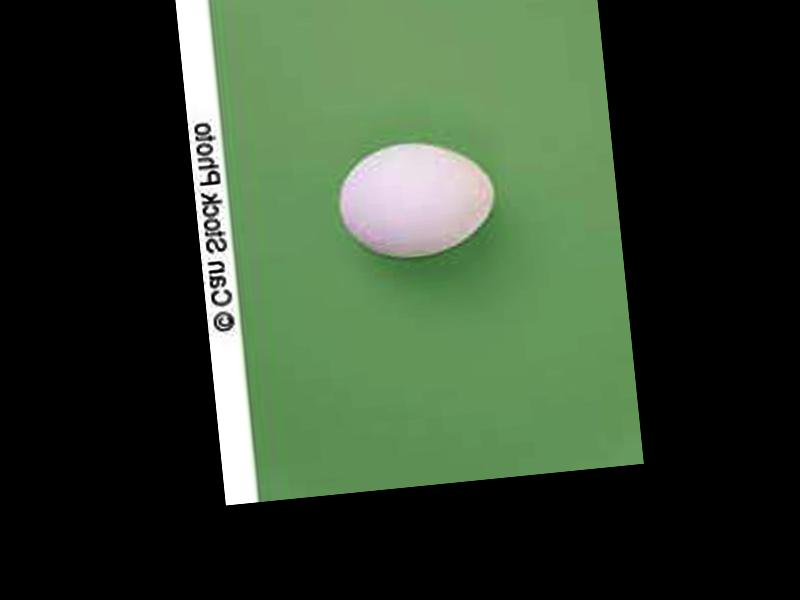Eggs: (335, 137, 499, 263)
